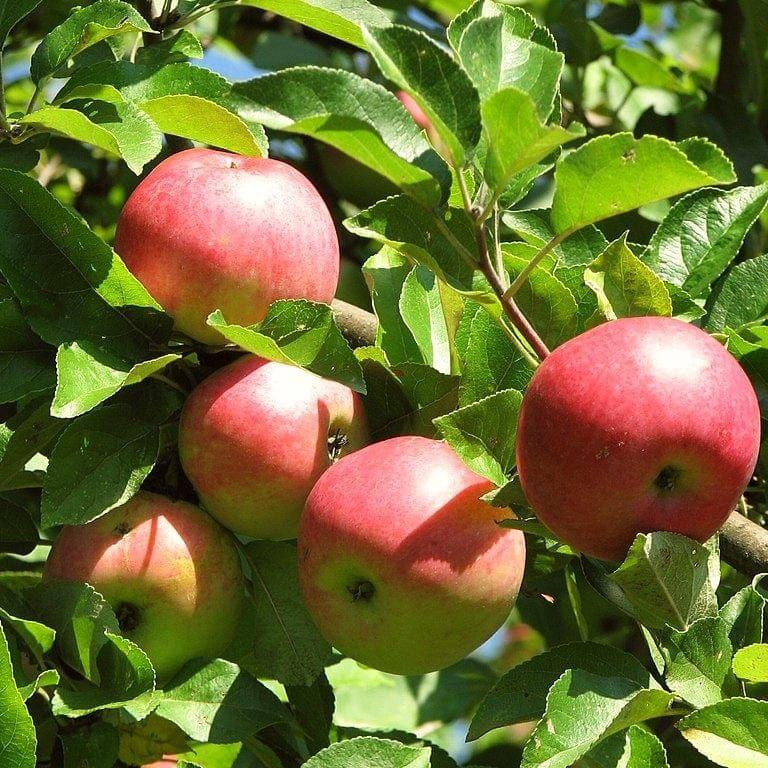Apple: (515, 316, 759, 564), (296, 434, 525, 676), (113, 146, 344, 347)
